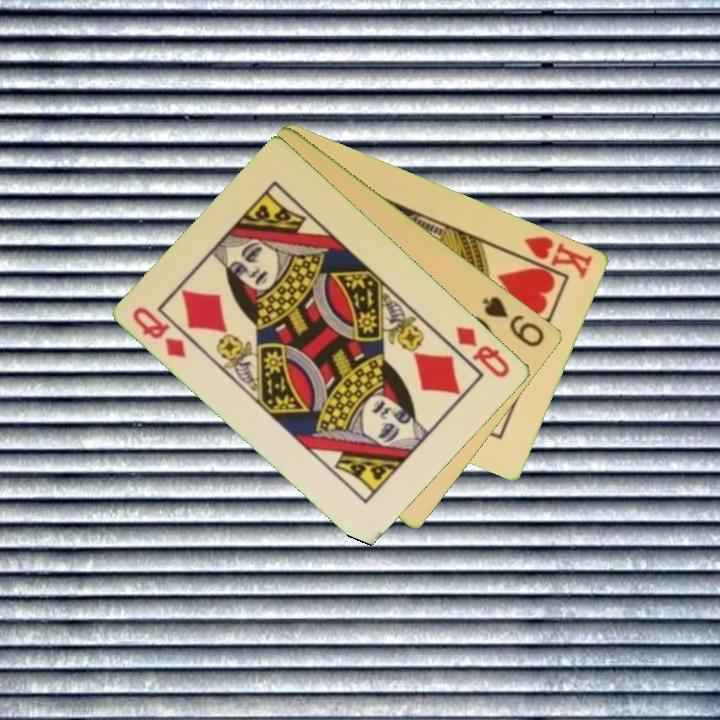9s: (479, 292, 548, 350)
Kh: (511, 232, 597, 281)
Qd: (453, 322, 513, 381), (130, 303, 190, 361)
